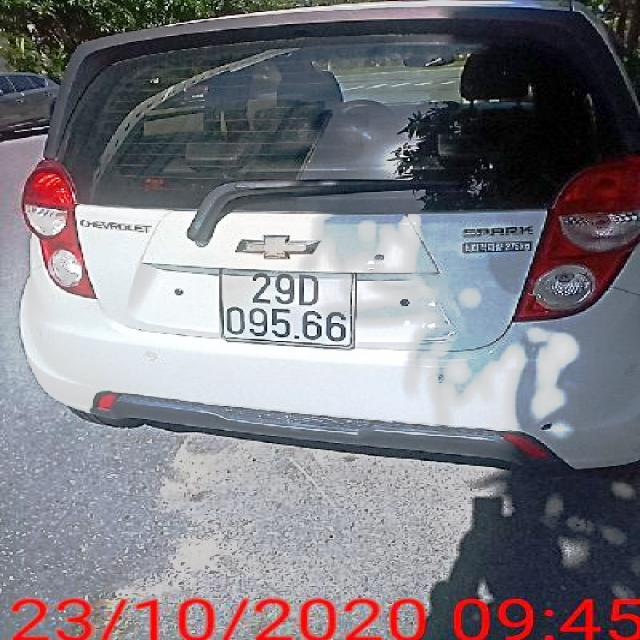license_plate: (221, 267, 357, 350)
